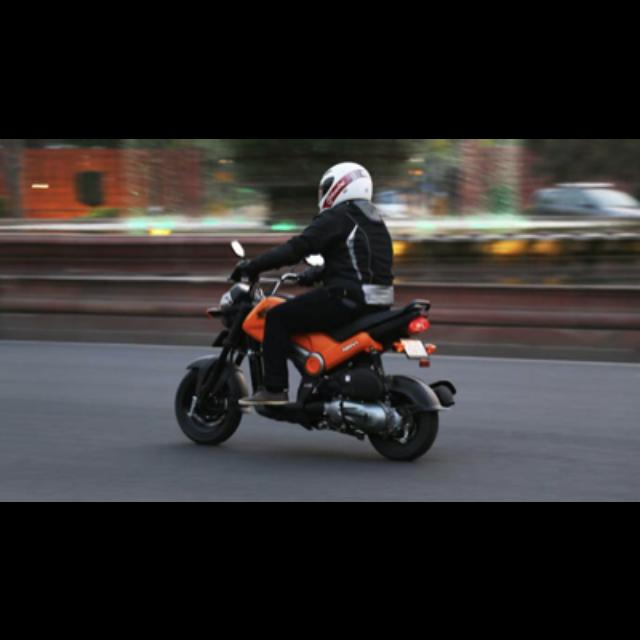With Helmet: (317, 159, 375, 217)
